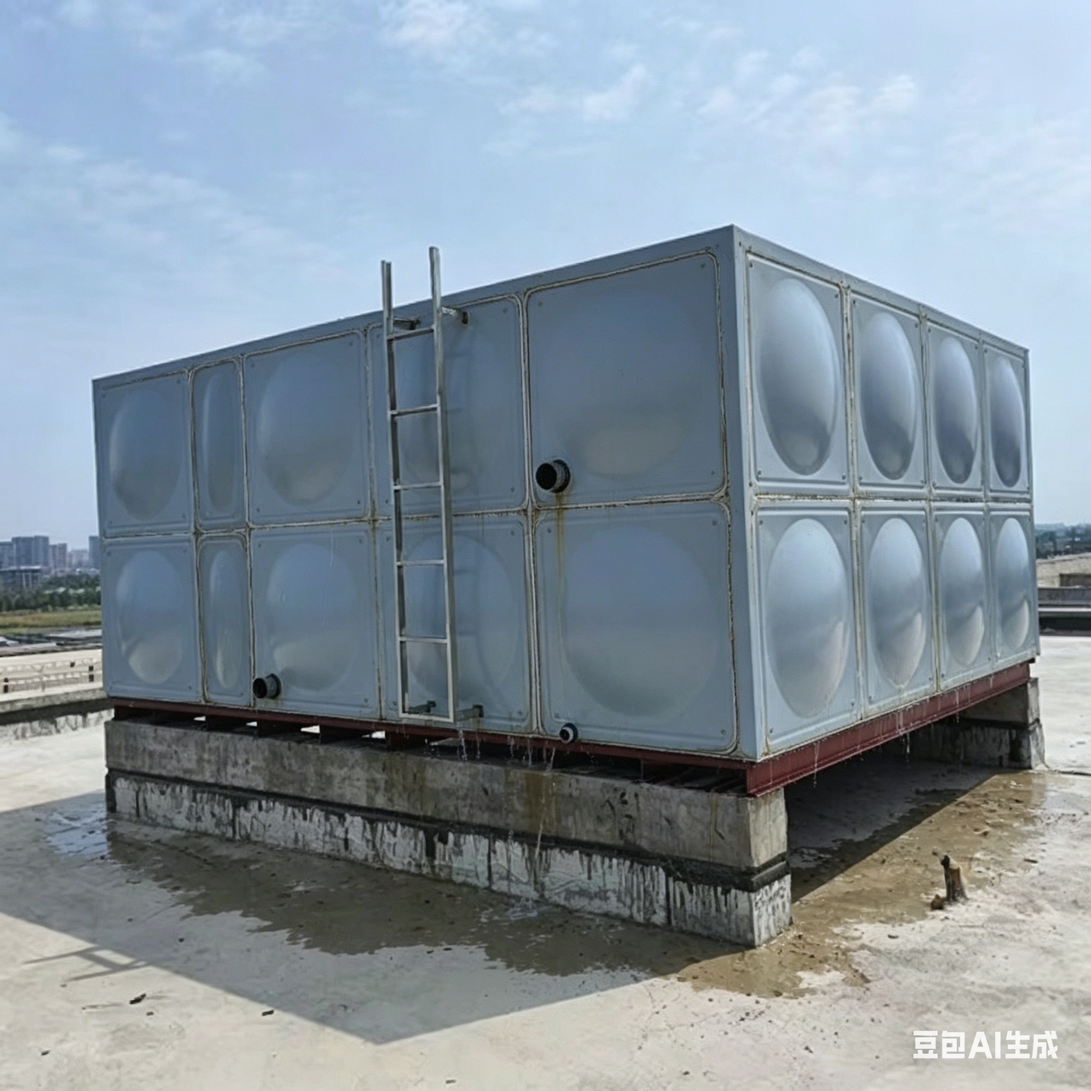Leakage: (62, 822, 566, 963), (818, 774, 1059, 854), (389, 702, 588, 794), (588, 911, 806, 985), (822, 870, 949, 921)
